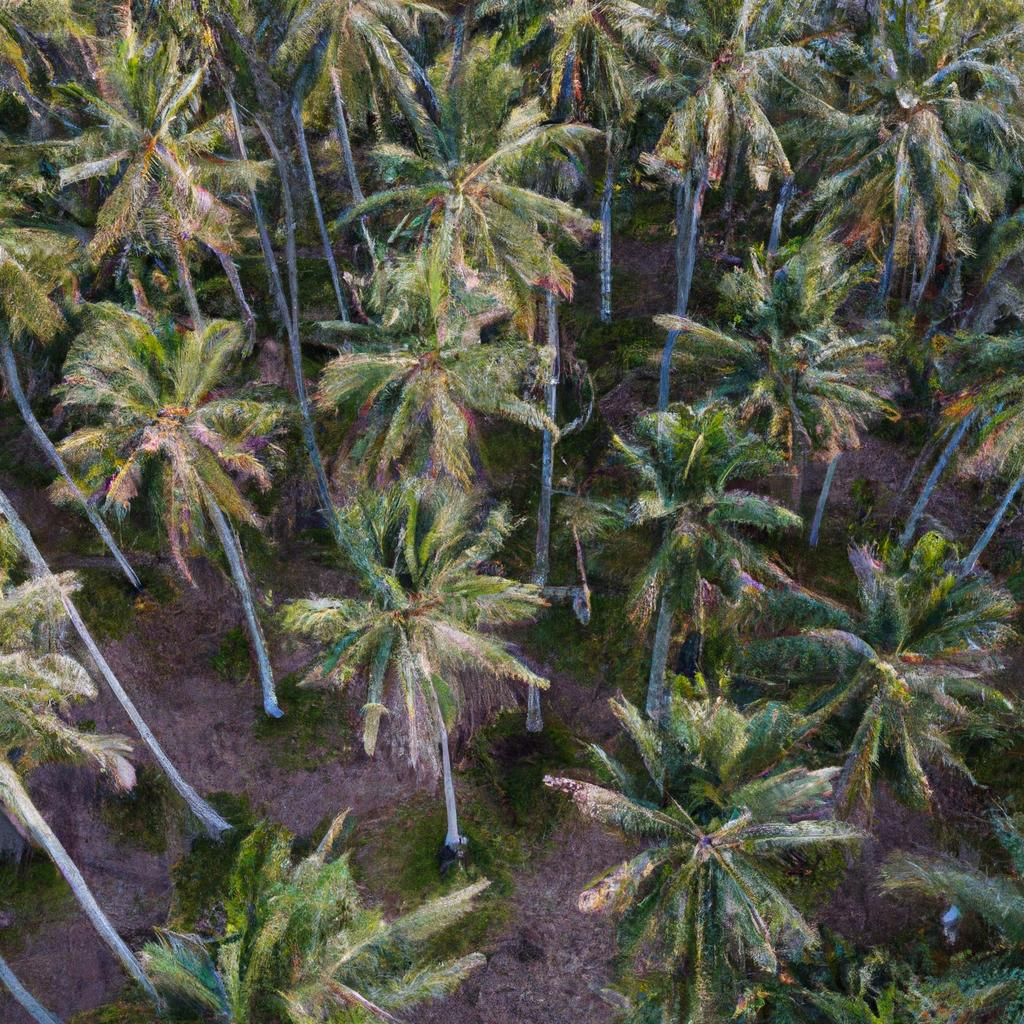coconut_tree: (546, 683, 865, 978), (269, 485, 553, 762), (347, 54, 630, 317), (32, 302, 302, 547), (294, 247, 556, 493), (661, 254, 897, 474), (24, 54, 262, 266)
